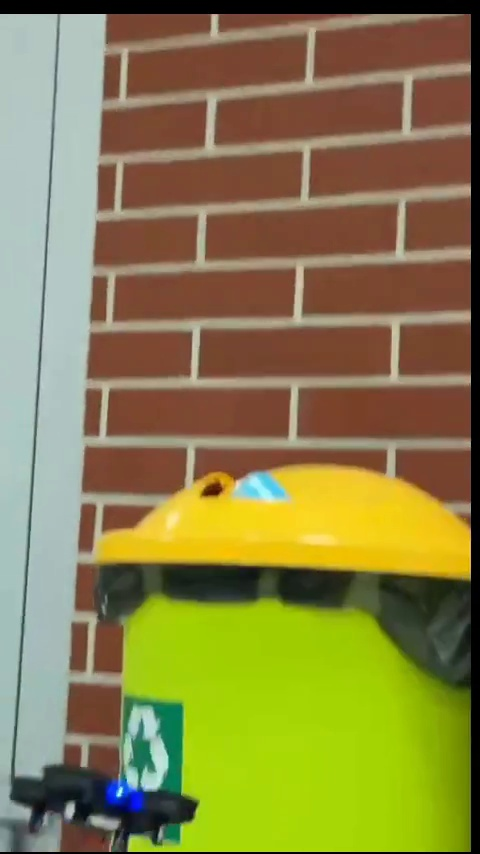drone: (2, 767, 198, 840)
